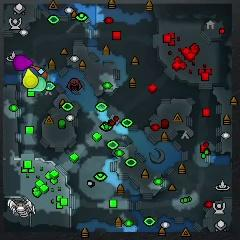p1: (23, 67, 38, 79)
p2: (27, 76, 47, 91)
p3: (14, 55, 33, 70)
p4: (23, 67, 38, 88)
p5: (30, 65, 47, 80)
